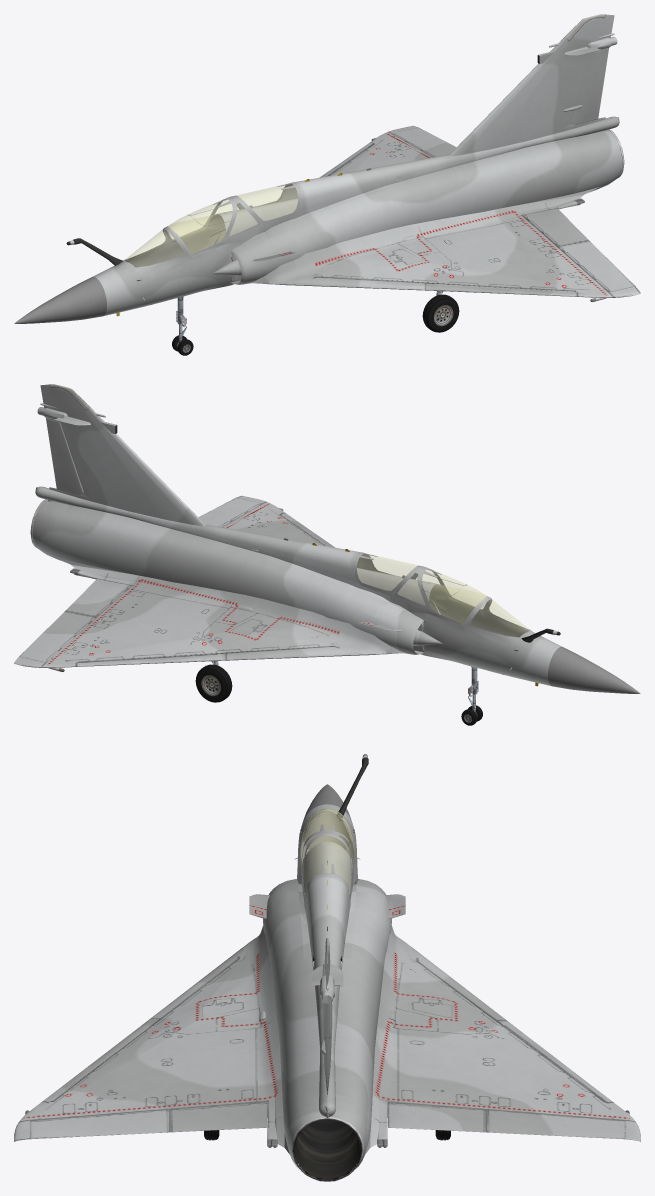
The picture shows the model from 3 angles, top to bottom: view 1: azimuth 30°, elevation 25°; view 2: azimuth 150°, elevation 25°; view 3: azimuth 270°, elevation 25°; orthographic projection. The views are drawn at different scales.
Parts seen in each view (by area): view 1: fuselage, ailes, queue-BIPLACE, verriereAvant-BIPLACE, queue-MONOPLACE, aileronG, direction, verriereArriere-BIPLACE, slatG1, elevonG, verriere-MONOPLACE, vitres (+7 smaller); view 2: fuselage, ailes, queue-BIPLACE, verriereAvant-BIPLACE, queue-MONOPLACE, aileronD, direction, verriereArriere-BIPLACE, slatD1, elevonD, verriere-MONOPLACE, vitres (+7 smaller); view 3: ailes, fuselage, queue-BIPLACE, tuyere, aileronD, aileronG, elevonD, elevonG, queue-MONOPLACE, verriereArriere-BIPLACE, verriere-MONOPLACE, slatD1 (+7 smaller).
Boxes of the visible parts, left/top/right/bottom form: fuselage: left=14, top=14, right=622, bottom=323; ailes: left=250, top=125, right=640, bottom=301; queue-BIPLACE: left=169, top=116, right=619, bottom=255; verriereAvant-BIPLACE: left=168, top=200, right=232, bottom=253; queue-MONOPLACE: left=208, top=185, right=389, bottom=235; aileronG: left=559, top=242, right=635, bottom=292; direction: left=571, top=48, right=608, bottom=124; verriereArriere-BIPLACE: left=237, top=184, right=297, bottom=220; slatG1: left=291, top=275, right=437, bottom=290; elevonG: left=523, top=208, right=590, bottom=248; verriere-MONOPLACE: left=168, top=214, right=225, bottom=252; vitres: left=125, top=229, right=182, bottom=265; fuselage: left=32, top=384, right=640, bottom=693; ailes: left=14, top=495, right=404, bottom=671; queue-BIPLACE: left=35, top=486, right=485, bottom=625; verriereAvant-BIPLACE: left=422, top=570, right=486, bottom=623; queue-MONOPLACE: left=271, top=556, right=446, bottom=605; aileronD: left=19, top=612, right=95, bottom=662; direction: left=46, top=418, right=83, bottom=494; verriereArriere-BIPLACE: left=357, top=554, right=417, bottom=590; slatD1: left=217, top=645, right=363, bottom=660; elevonD: left=64, top=578, right=131, bottom=618; verriere-MONOPLACE: left=429, top=584, right=486, bottom=622; vitres: left=472, top=599, right=529, bottom=635; ailes: left=14, top=925, right=640, bottom=1154; fuselage: left=263, top=784, right=391, bottom=1168; queue-BIPLACE: left=298, top=809, right=356, bottom=1117; tuyere: left=293, top=1119, right=361, bottom=1180; aileronD: left=488, top=1110, right=624, bottom=1139; aileronG: left=30, top=1110, right=166, bottom=1139; elevonD: left=387, top=1102, right=488, bottom=1132; elevonG: left=166, top=1102, right=267, bottom=1132; queue-MONOPLACE: left=298, top=845, right=356, bottom=958; verriereArriere-BIPLACE: left=304, top=836, right=350, bottom=891; verriere-MONOPLACE: left=301, top=809, right=353, bottom=860; slatD1: left=410, top=947, right=513, bottom=1025.
Bounding box in the file's own units: 1383 × 906 × 517.
